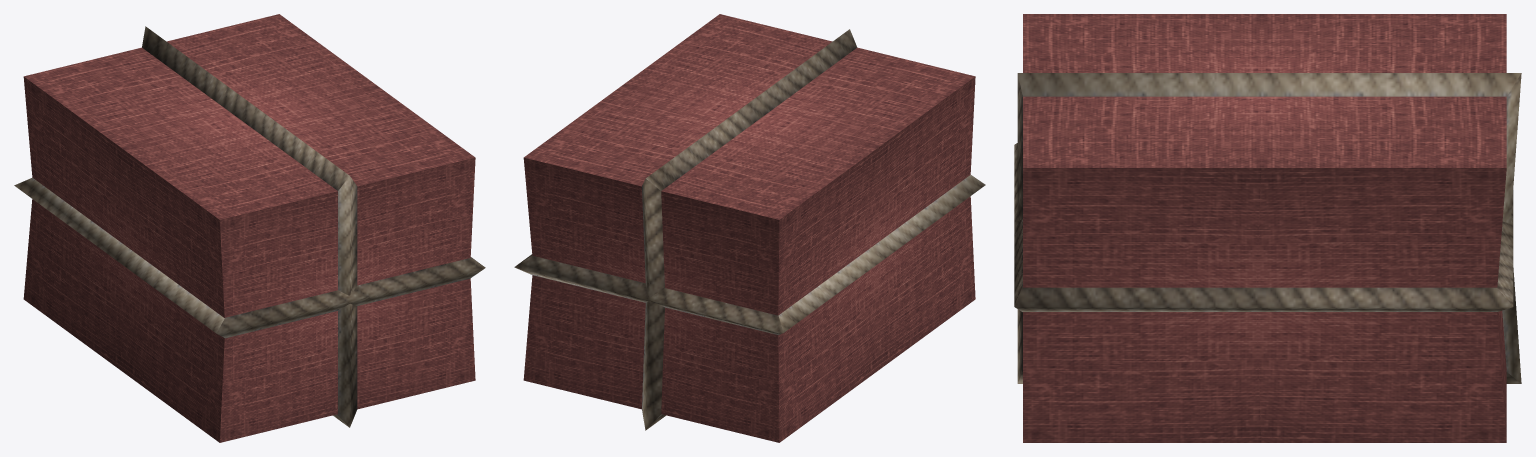
Rendered from Package_Type_02_C.fbx.
The picture shows the model from 3 angles, left to right: view 1: azimuth 30°, elevation 25°; view 2: azimuth 150°, elevation 25°; view 3: azimuth 270°, elevation 25°; orthographic projection. The views are drawn at different scales.
Visible parts, largest first — view 1: Package_Type_02_C; view 2: Package_Type_02_C; view 3: Package_Type_02_C.
Part boxes in pixels (box(x1,y1,x2,y2)): Package_Type_02_C: box(14, 14, 485, 442); Package_Type_02_C: box(514, 14, 985, 442); Package_Type_02_C: box(1014, 14, 1521, 442).
Bounding box in the file's own units: 0.6549 × 0.5856 × 0.8653.
